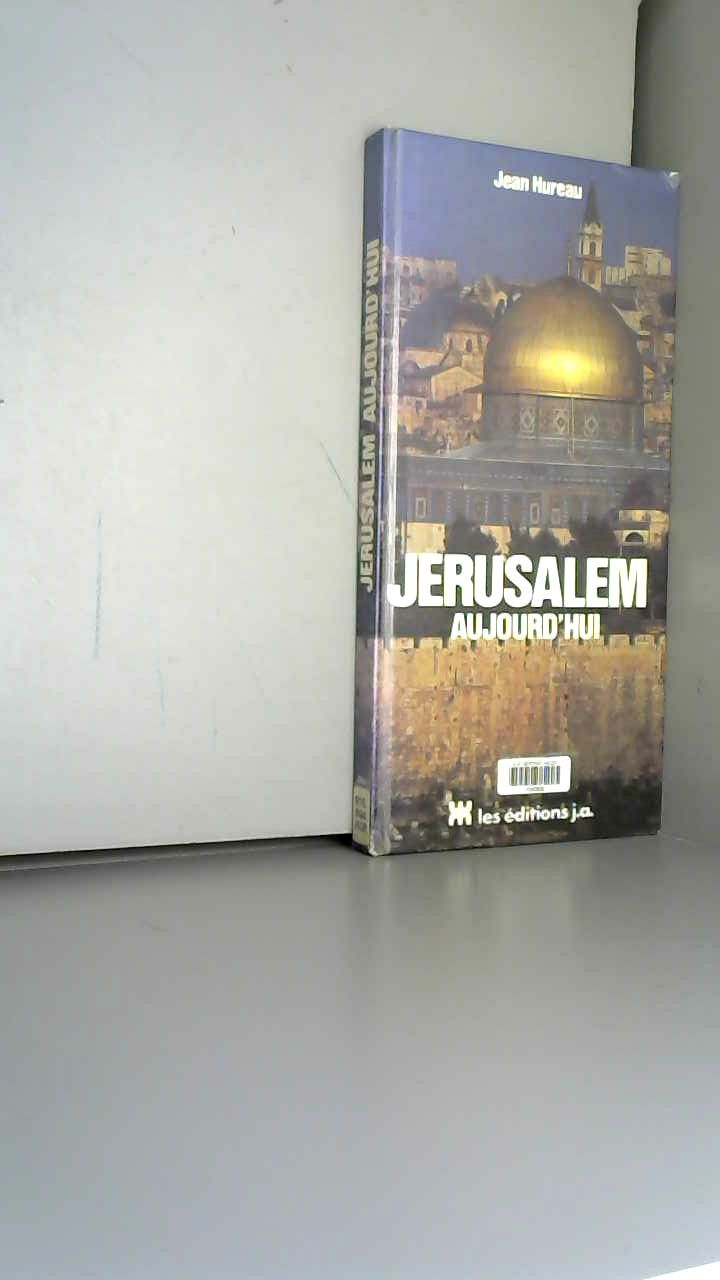book: (320, 100, 715, 883)
